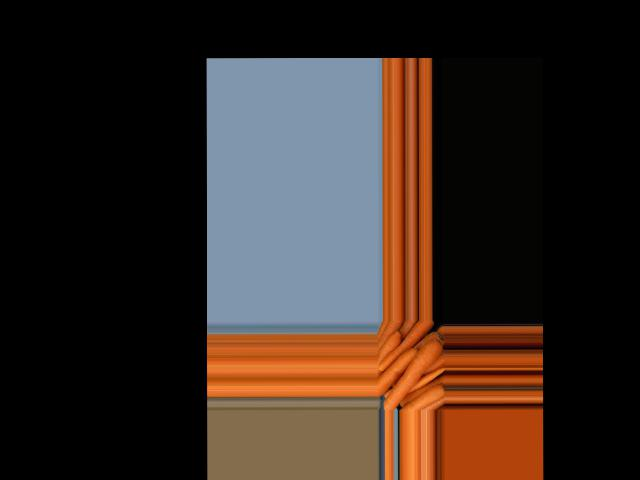carrot: (380, 319, 428, 369)
